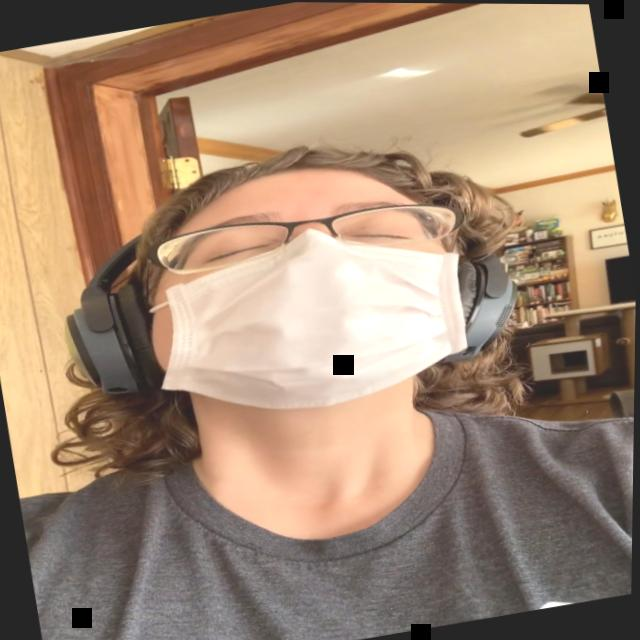Mask: (107, 141, 493, 435)
